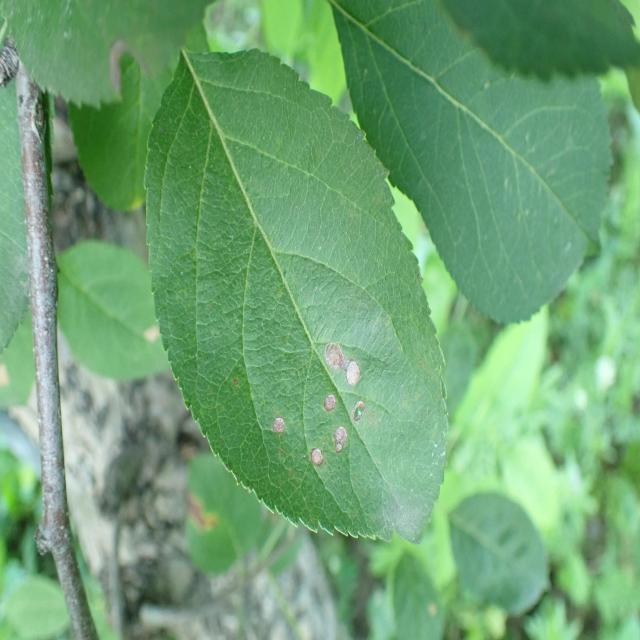Black Rot: (303, 331, 370, 384), (331, 425, 357, 484), (266, 405, 295, 449), (350, 396, 374, 446), (315, 376, 335, 418), (310, 440, 330, 472)
